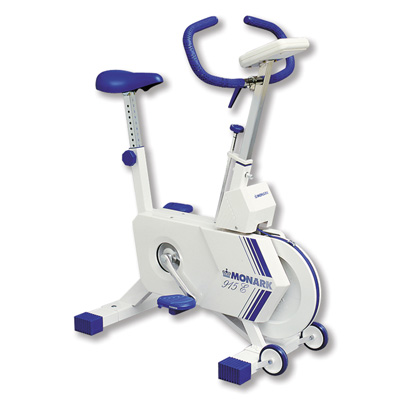gym_bike: (77, 12, 333, 384)
